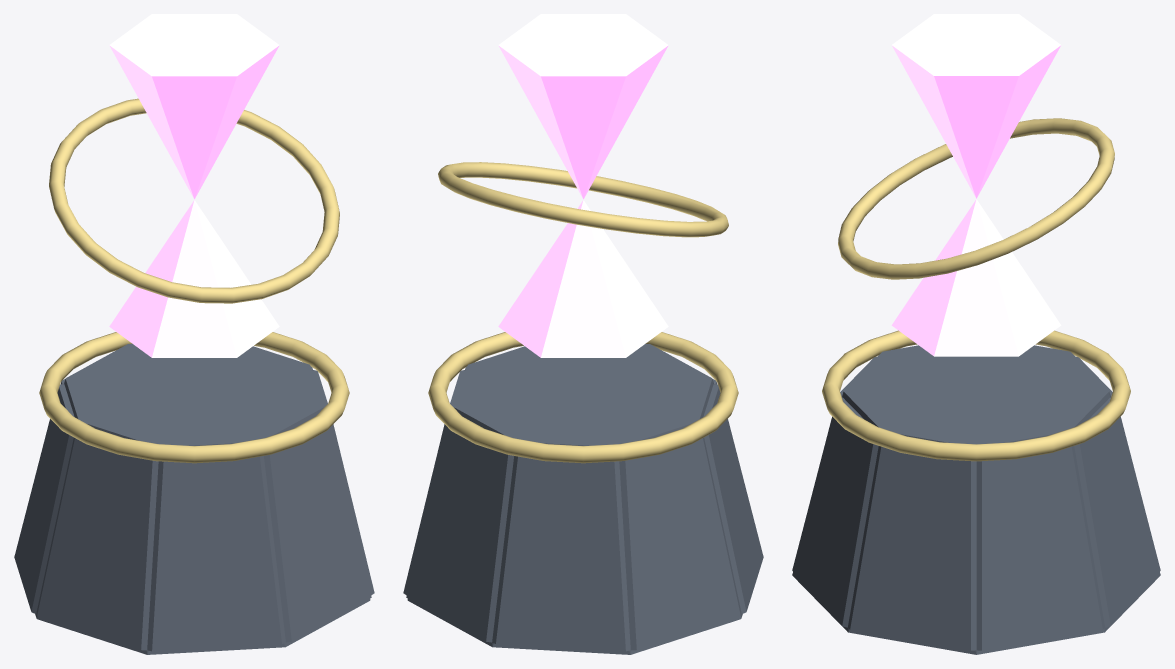
File: crystal-relic.glb
The picture shows the model from 3 angles, left to right: view 1: azimuth 30°, elevation 25°; view 2: azimuth 150°, elevation 25°; view 3: azimuth 270°, elevation 25°; orthographic projection.
Visible parts, largest first — view 1: Pedestal, Floating_Shard, Halo_Ring; view 2: Pedestal, Floating_Shard, Halo_Ring; view 3: Pedestal, Floating_Shard, Halo_Ring.
Part boxes in pixels (bbox=[...]): Pedestal: bbox=[14, 332, 374, 654]; Floating_Shard: bbox=[109, 14, 279, 357]; Halo_Ring: bbox=[49, 98, 339, 303]; Pedestal: bbox=[403, 332, 763, 654]; Floating_Shard: bbox=[498, 14, 668, 357]; Halo_Ring: bbox=[438, 162, 728, 237]; Pedestal: bbox=[792, 330, 1160, 654]; Floating_Shard: bbox=[891, 14, 1061, 356]; Halo_Ring: bbox=[838, 118, 1114, 279].
Size of the model in its own units: 1.22 by 1.94 by 1.22.
